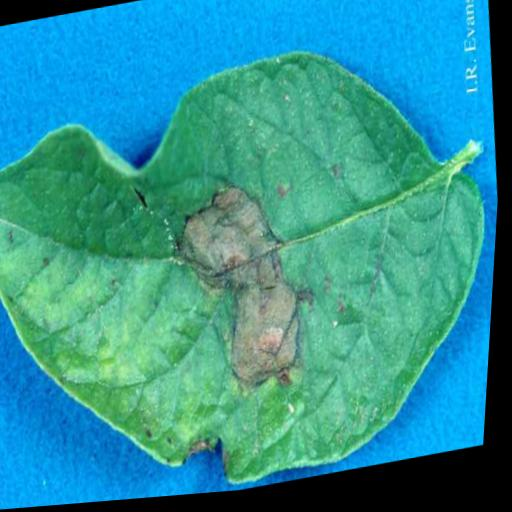Late Blight: (0, 19, 510, 512)
